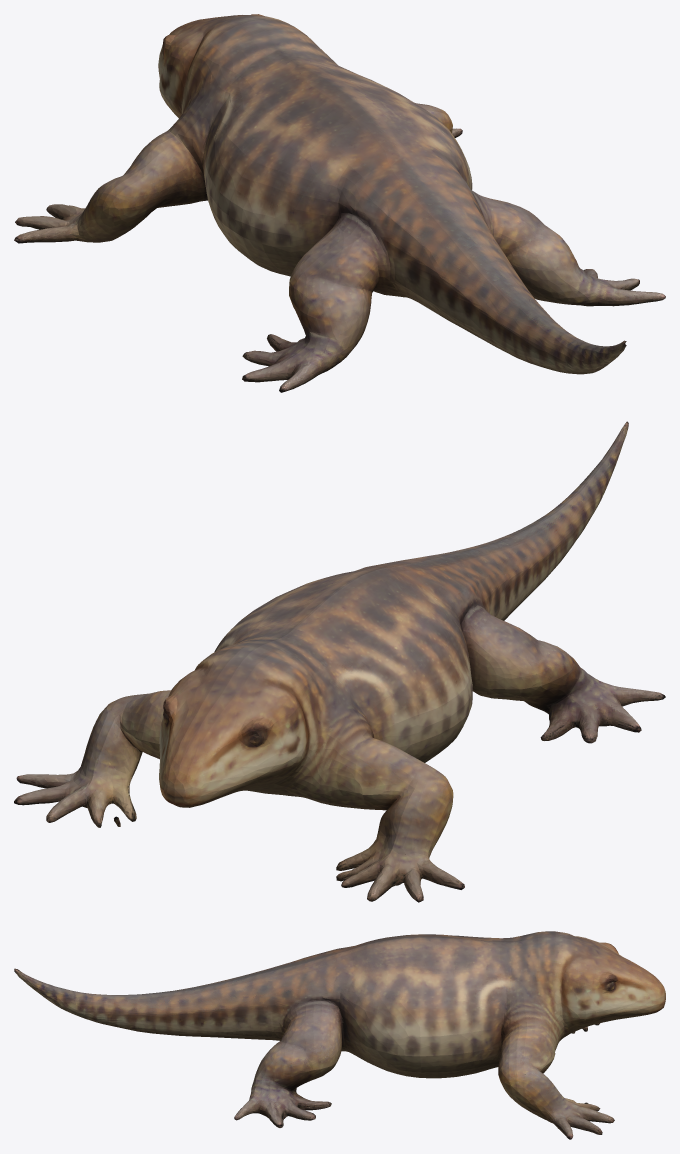
3 renders of one model, top to bottom at view 1: azimuth 30°, elevation 25°; view 2: azimuth 150°, elevation 25°; view 3: azimuth 270°, elevation 25°, orthographic. The views are drawn at different scales.
Visible parts, largest first — view 1: world; view 2: world; view 3: world.
Part boxes in pixels (<box>): world: <box>14,14,665,392</box>; world: <box>14,421,665,902</box>; world: <box>14,931,665,1139</box>.
Size of the model in its own units: 0.5704 by 0.2245 by 1.
Materials: 1 (1 with a texture image).
